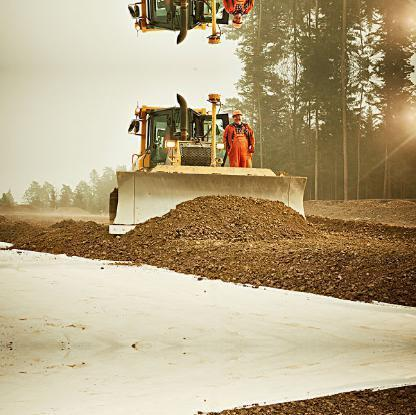helmet: (230, 109, 242, 121)
